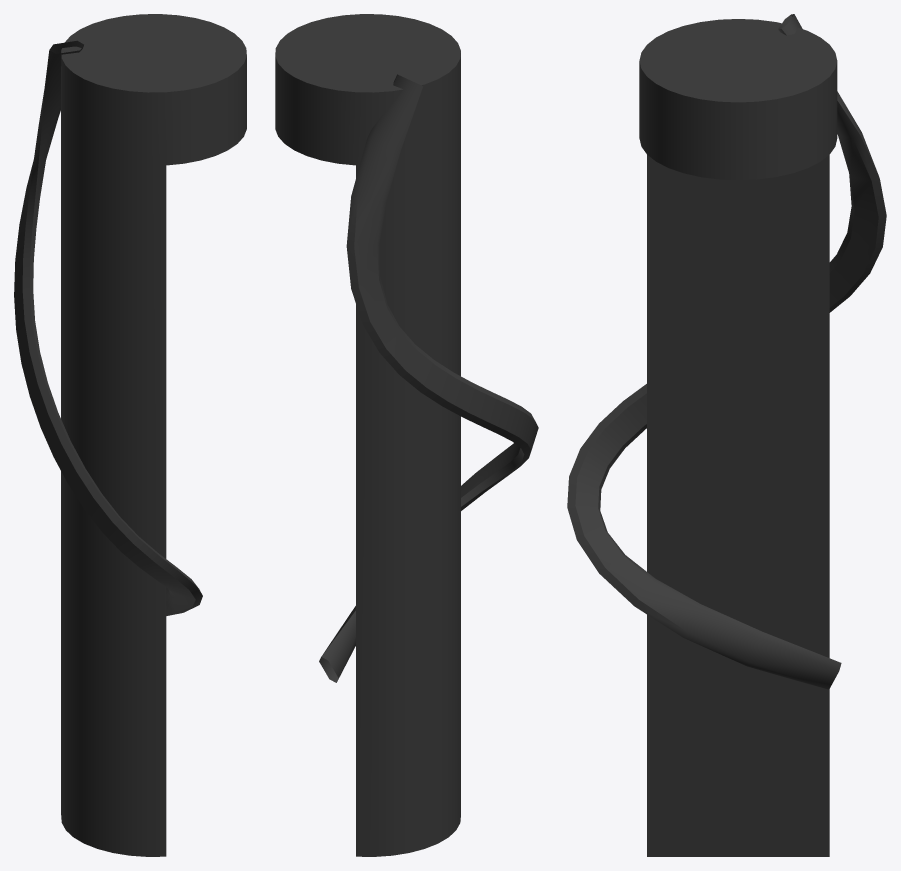
File: camHoldYaw.dae
3 renders of one model, left to right at view 1: azimuth 30°, elevation 25°; view 2: azimuth 150°, elevation 25°; view 3: azimuth 270°, elevation 25°, orthographic. The views are drawn at different scales.
Parts seen in each view (by area): view 1: 平面.012; view 2: 平面.012; view 3: 平面.012.
Part boxes in pixels (left/top/right/bottom): 平面.012: left=14, top=14, right=246, bottom=856; 平面.012: left=275, top=14, right=538, bottom=856; 平面.012: left=567, top=14, right=886, bottom=856.
Size of the model in its own units: 0.0232 by 0.0304 by 0.0861.
1 material, 1 textured.
